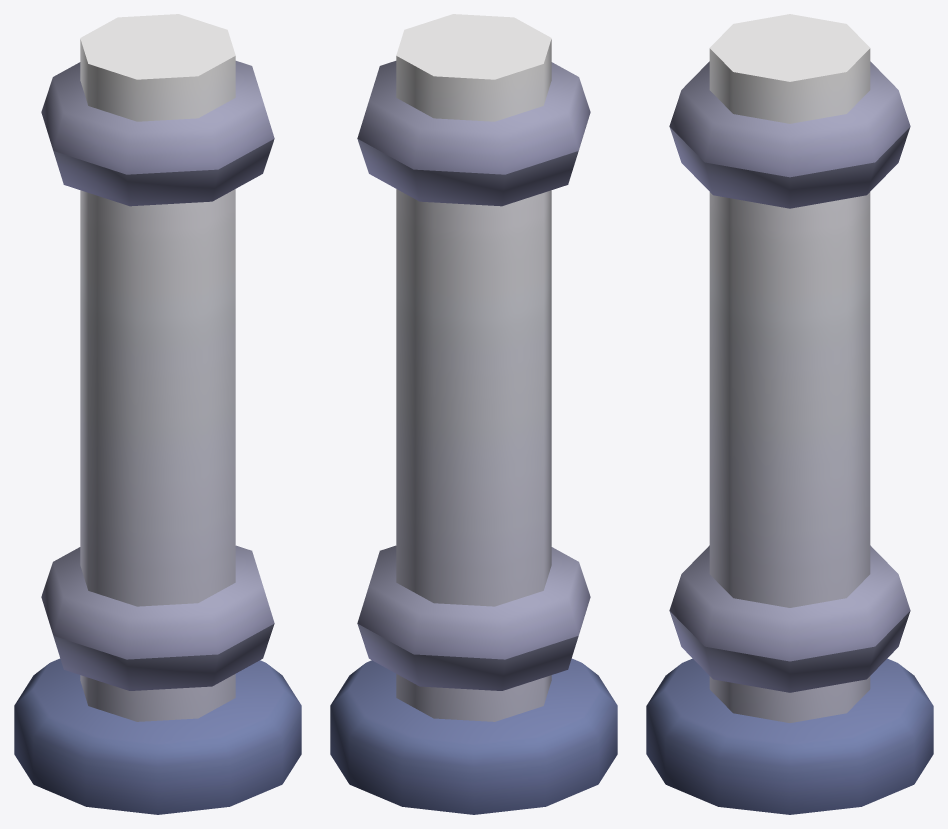
File: template-detail.glb
3 renders of one model, left to right at view 1: azimuth 30°, elevation 25°; view 2: azimuth 150°, elevation 25°; view 3: azimuth 270°, elevation 25°, orthographic.
Visible parts, largest first — view 1: template-detail; view 2: template-detail; view 3: template-detail.
Boxes of the visible parts, box(x1,y1,x2,y2) form: template-detail: box(14, 14, 301, 814); template-detail: box(330, 14, 617, 814); template-detail: box(646, 14, 933, 814).
Size of the model in its own units: 1.56 by 4.23 by 1.56.
Materials: 1 (1 with a texture image).
